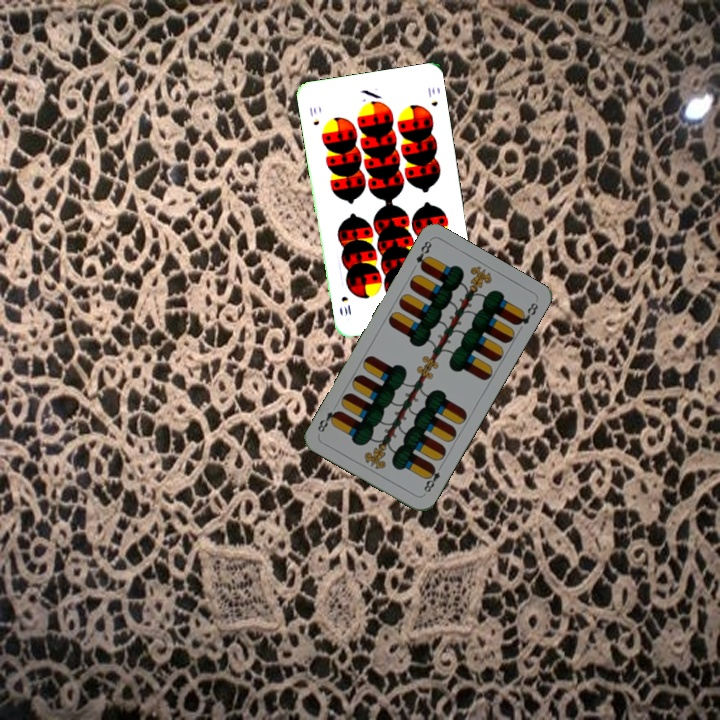E8: (419, 460, 445, 497), (412, 237, 434, 273)
S10: (305, 103, 322, 128)
